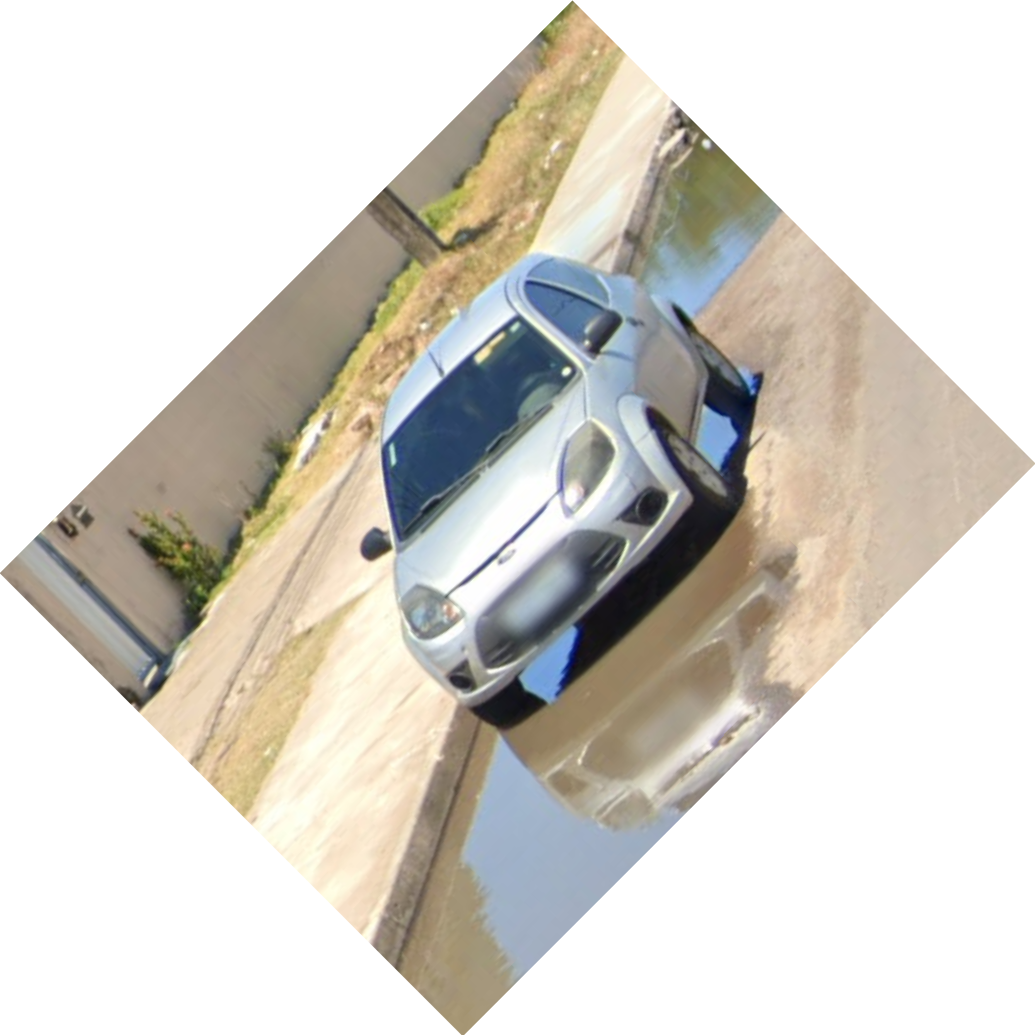car: (357, 246, 752, 718)
